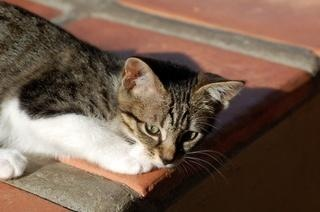cat: (2, 1, 247, 188)
